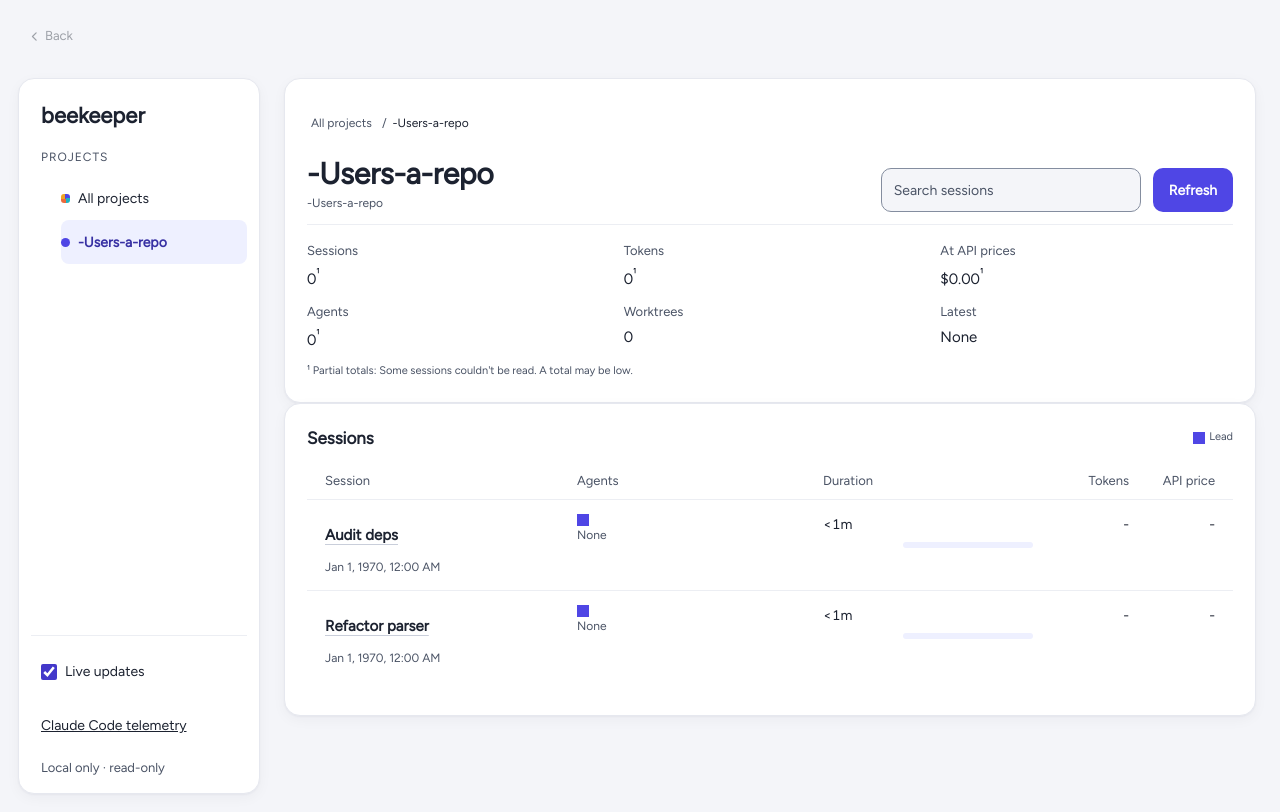
Test case: session search by workflow run › shows a session whose workflow run matches, naming the workflow
In the search field labelled "Search sessions": (1011,190) x1=881 y1=168 x2=1141 y2=212, type "SCAN"
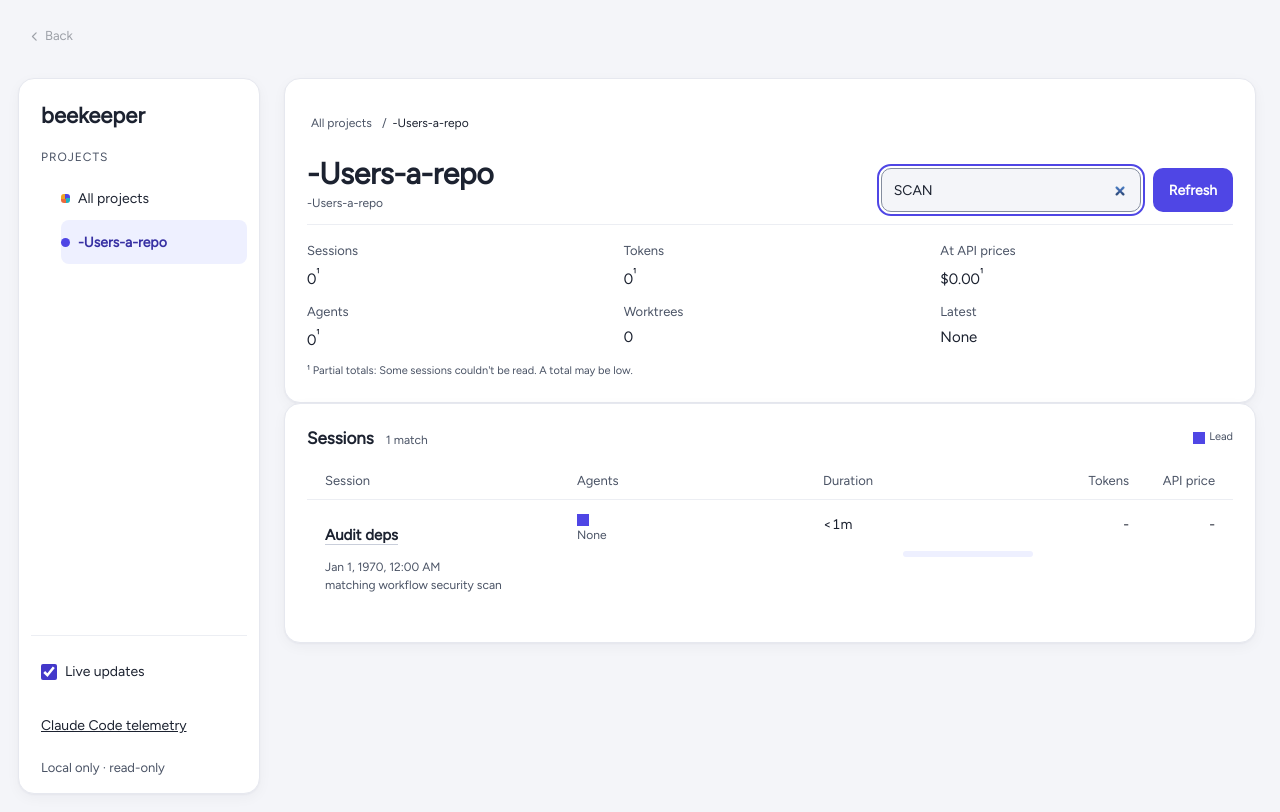
Check: the text "matching workflow security scan" is shown, box x1=325 y1=578 x2=502 y2=592
Check: the button "Refactor parser" is gone
